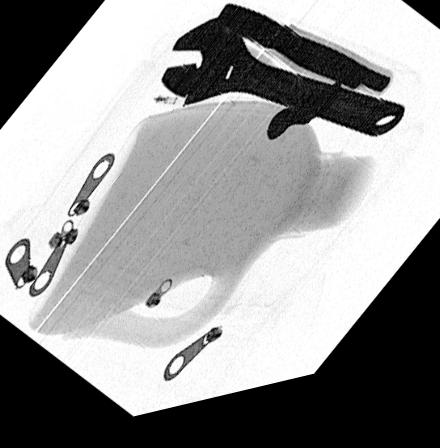Hammer: (235, 52, 340, 151)
Pliers: (212, 10, 391, 112)
Wrench: (156, 25, 403, 153)
